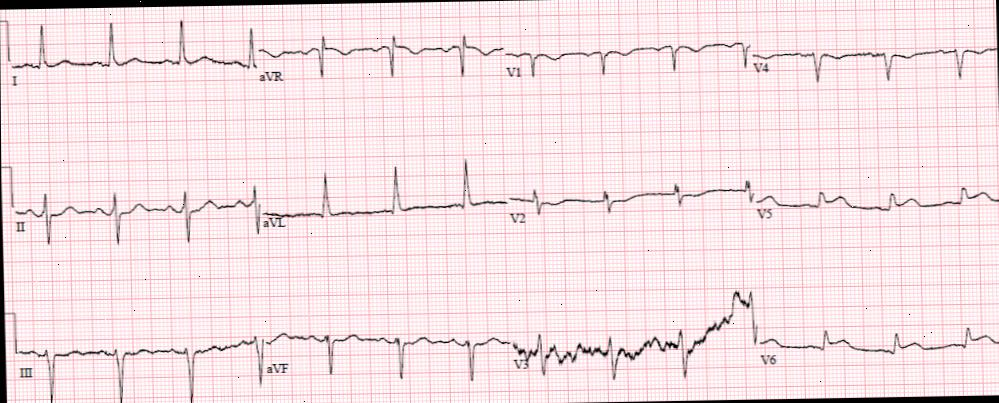Lead_II: (9, 163, 264, 250)
Lead_III: (11, 317, 267, 403)
Lead_V1: (503, 5, 753, 94), (5, 15, 259, 98)
Lead_V2: (506, 150, 756, 241)
Lead_V3: (506, 276, 759, 388)
Lead_V4: (751, 16, 998, 90)
Lead_V5: (755, 165, 999, 231)
Lead_V6: (756, 302, 999, 383)
Lead_aVF: (260, 312, 512, 403)
Lead_aVL: (261, 152, 508, 244)
Lead_aVR: (255, 7, 506, 96)
